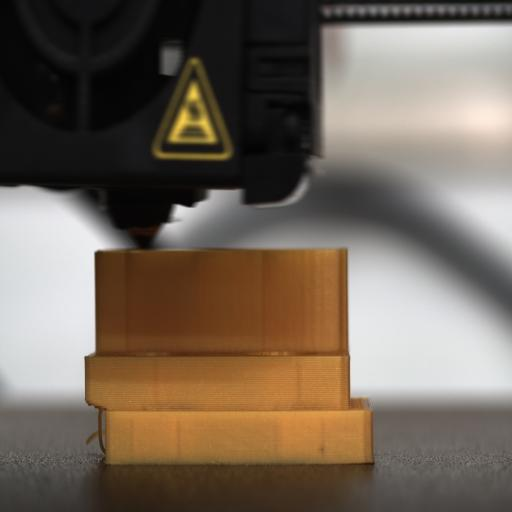layer_shift: (83, 389, 374, 423)
